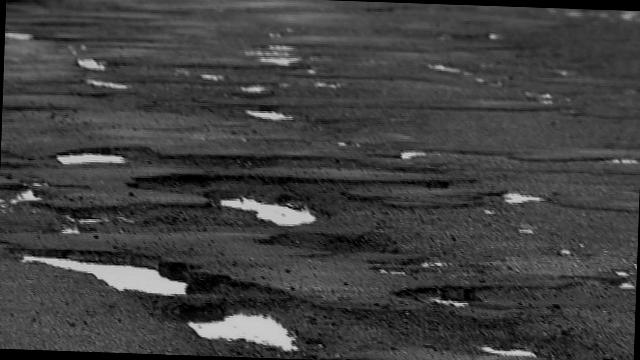Pothole: (123, 155, 468, 231), (2, 241, 215, 302), (400, 276, 636, 330), (166, 300, 308, 360), (268, 220, 404, 263), (44, 136, 164, 180), (82, 73, 140, 96), (243, 100, 292, 126), (70, 58, 114, 78), (5, 24, 46, 45)
